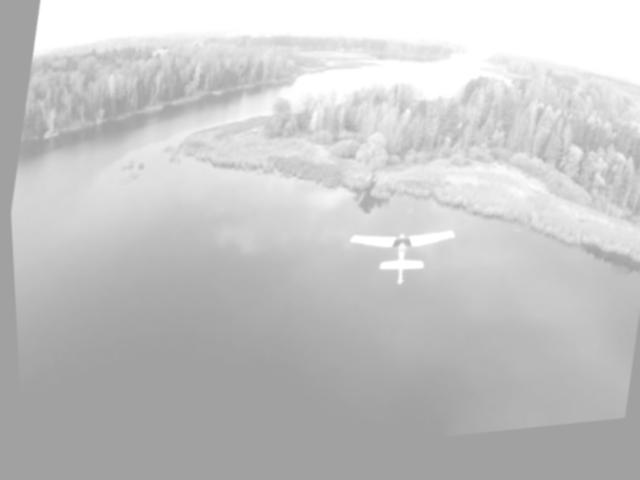hedef: (334, 211, 458, 313)
